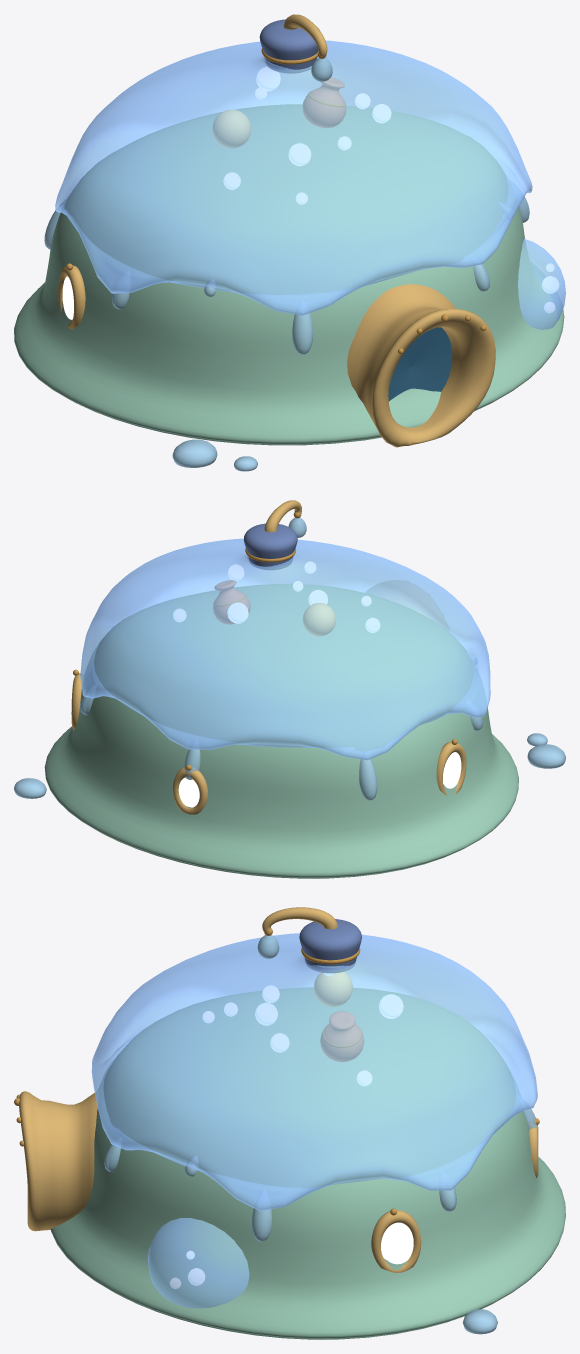
The model's file is house_02_0201.fbx.
3 views of the same model, one above another, from view 1: azimuth 30°, elevation 25°; view 2: azimuth 150°, elevation 25°; view 3: azimuth 270°, elevation 25° (orthographic). The views are drawn at different scales.
Parts seen in each view (by area): view 1: House02_Body_Base, House02_Dome_JellyClear, House02_Entrance_Tunnel, House02_Blister_JellyClear, House02_Entrance_Shadow, House02_Top_Plug, House02_Float_Pot, House02_Float_Lamp, House02_Puddle_1, House02_WindowLip_L, House02_Drip_6, House02_Top_Sprout; view 2: House02_Body_Base, House02_Dome_JellyClear, House02_Top_Plug, House02_Entrance_Tunnel, House02_Float_Lamp, House02_WindowLip_Back, House02_Float_Pot, House02_Puddle_1, House02_WindowLip_L, House02_Drip_4, House02_Puddle_3, House02_Top_Sprout (+3 smaller); view 3: House02_Body_Base, House02_Dome_JellyClear, House02_Entrance_Tunnel, House02_Blister_JellyClear, House02_Top_Plug, House02_Float_Pot, House02_WindowLip_R, House02_Window_R, House02_Float_Lamp, House02_Top_Sprout, House02_Puddle_3, House02_Drip_1.
Boxes of the visible parts, x1,y1,x2,y2 form: House02_Body_Base: (14, 104, 564, 445); House02_Dome_JellyClear: (55, 40, 532, 315); House02_Entrance_Tunnel: (347, 284, 495, 447); House02_Blister_JellyClear: (518, 239, 565, 329); House02_Entrance_Shadow: (388, 327, 452, 401); House02_Top_Plug: (259, 19, 319, 73); House02_Float_Pot: (303, 77, 345, 127); House02_Float_Lamp: (212, 110, 250, 148); House02_Puddle_1: (172, 439, 217, 467); House02_WindowLip_L: (58, 265, 85, 329); House02_Drip_6: (292, 313, 313, 354); House02_Top_Sprout: (283, 14, 327, 56); House02_Body_Base: (44, 584, 518, 878); House02_Dome_JellyClear: (80, 538, 490, 760); House02_Top_Plug: (244, 523, 297, 569); House02_Entrance_Tunnel: (366, 580, 448, 629); House02_Float_Lamp: (303, 603, 335, 636); House02_WindowLip_Back: (172, 767, 207, 814); House02_Float_Pot: (213, 580, 250, 624); House02_Puddle_1: (527, 744, 565, 768); House02_WindowLip_L: (436, 742, 466, 795); House02_Drip_4: (359, 751, 377, 800); House02_Puddle_3: (14, 778, 46, 798); House02_Top_Sprout: (264, 500, 301, 532); House02_Body_Base: (50, 987, 565, 1339); House02_Dome_JellyClear: (91, 933, 537, 1211); House02_Entrance_Tunnel: (19, 1091, 98, 1231); House02_Blister_JellyClear: (147, 1218, 249, 1308); House02_Top_Plug: (299, 919, 361, 972); House02_Float_Pot: (320, 1011, 364, 1061); House02_WindowLip_R: (371, 1210, 421, 1272); House02_Window_R: (381, 1222, 413, 1264); House02_Float_Lamp: (314, 972, 352, 1006); House02_Top_Sprout: (262, 907, 337, 932); House02_Puddle_3: (462, 1309, 497, 1334); House02_Drip_1: (252, 1208, 271, 1241).
Size of the model in its own units: 6.3 by 3.96 by 6.2.
